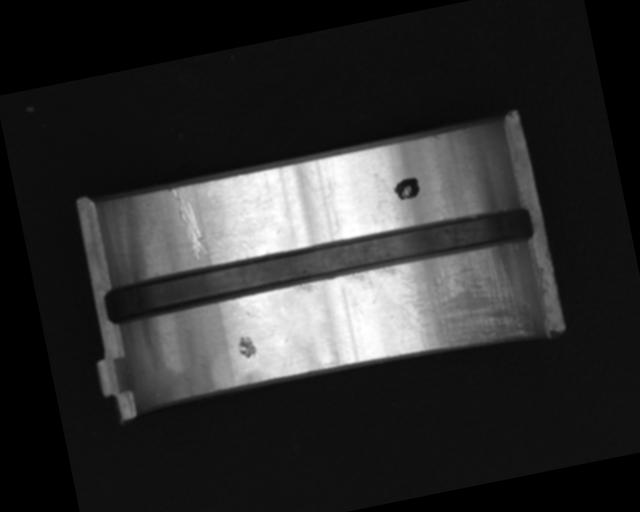blot: (389, 175, 423, 202)
bruise: (233, 331, 260, 361)
gap: (99, 200, 539, 329)
nick: (168, 180, 210, 262)
scratch: (378, 238, 541, 366)
